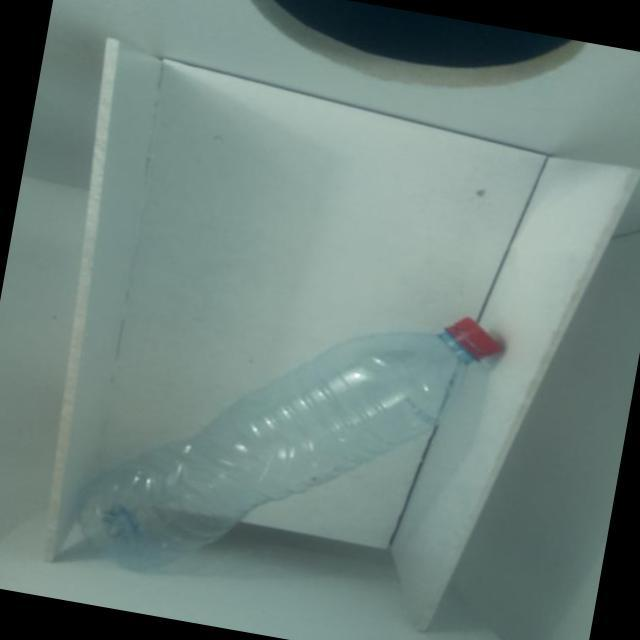good: (59, 251, 510, 631)
